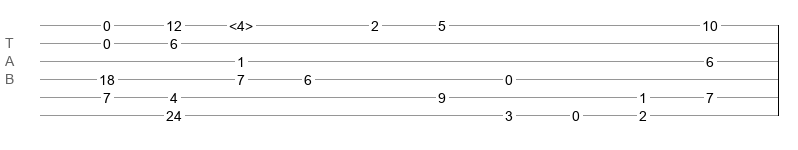0: (103, 18, 111, 28), (103, 36, 111, 46), (505, 72, 513, 82), (572, 108, 580, 118)
1: (237, 54, 245, 64), (639, 90, 647, 100)
10: (702, 18, 718, 28)
12: (166, 18, 182, 28)
18: (99, 72, 115, 82)
2: (371, 18, 379, 28), (639, 108, 647, 118)
24: (166, 108, 182, 118)
3: (505, 108, 513, 118)
4: (170, 90, 178, 100)
5: (438, 18, 446, 28)
6: (170, 36, 178, 46), (304, 72, 312, 82), (706, 54, 714, 64)
7: (103, 90, 111, 100), (237, 72, 245, 82), (706, 90, 714, 100)
9: (438, 90, 446, 100)
harmonic: (229, 18, 253, 28)
